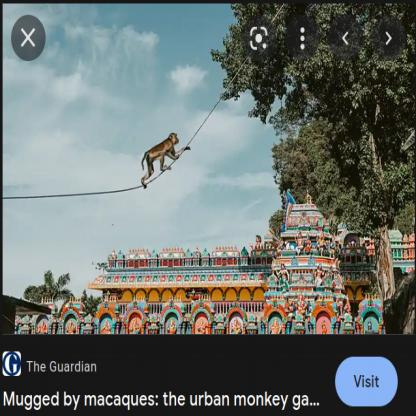monkey: (137, 130, 194, 191)
